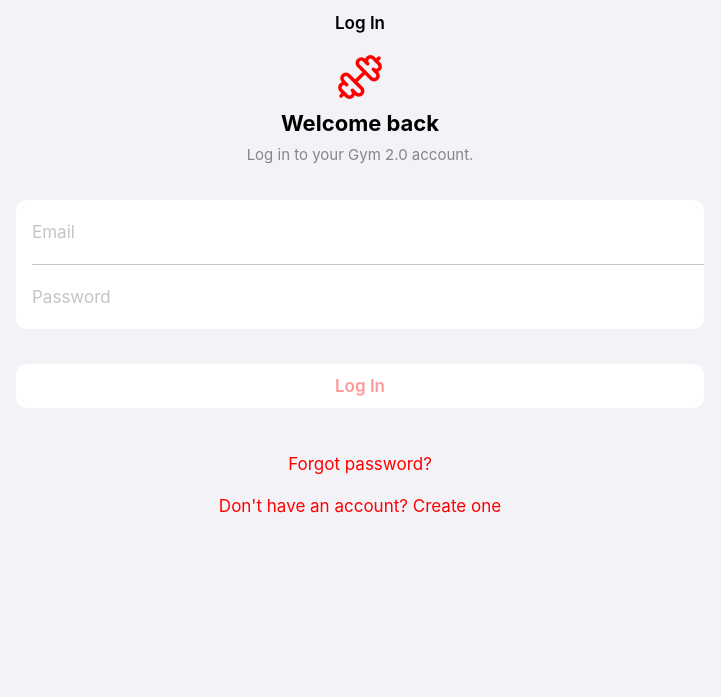
LoginView › shows the error and offers to resend the email if it isn't verified
Type "alice@example.com" into the field with placeholder "Email".
click(360, 232); type("alice@example.com")  # box x1=32 y1=210 x2=688 y2=254
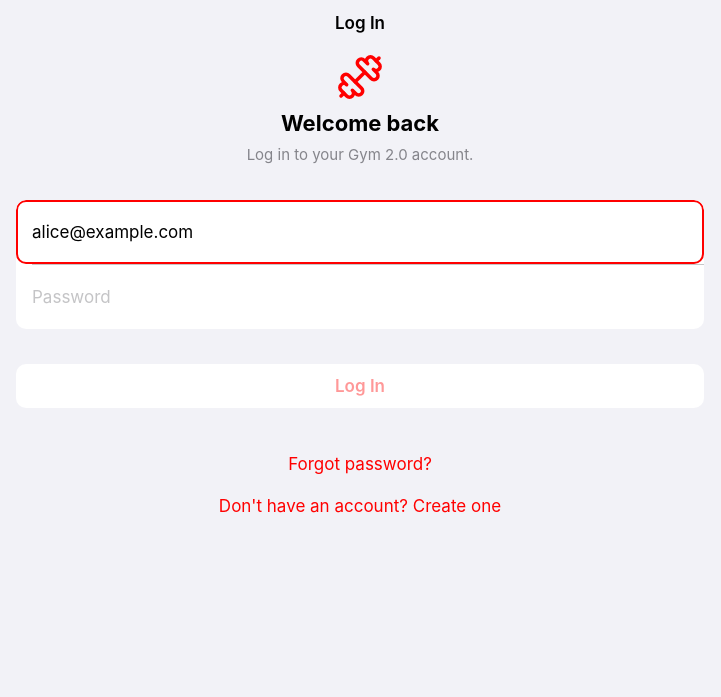
Type "Test-Passw0rd" into the password field with placeholder "Password".
click(360, 297); type("Test-Passw0rd")  # box x1=32 y1=275 x2=688 y2=319
Then press Enter
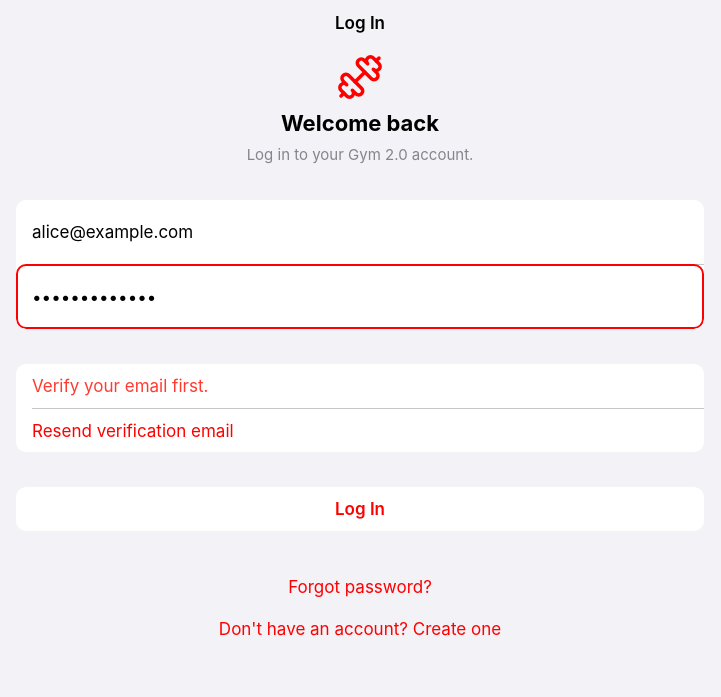
Now the text "Verify your email first." is shown, box x1=32 y1=375 x2=208 y2=397
Click the button "Resend verification email".
click(360, 430)  # box x1=16 y1=408 x2=704 y2=452
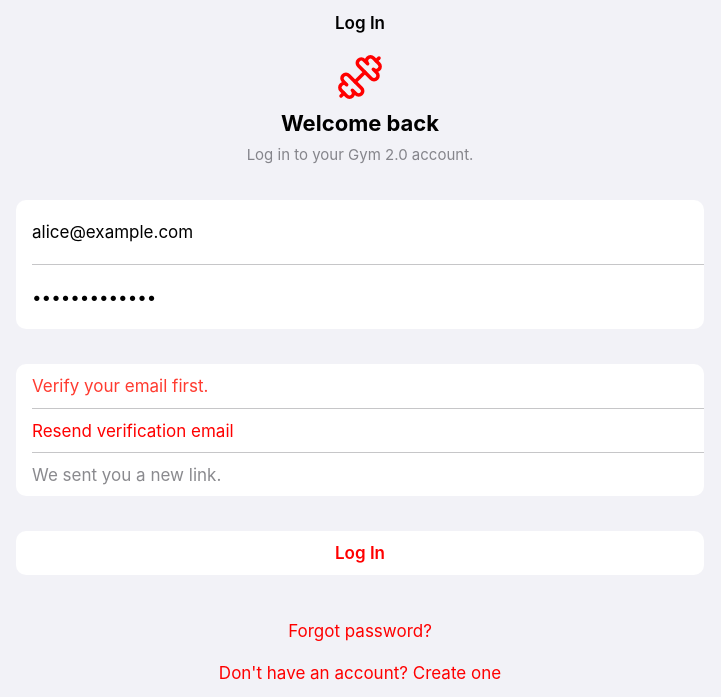
Now the text "We sent you a new link." is shown, box x1=32 y1=464 x2=221 y2=486
